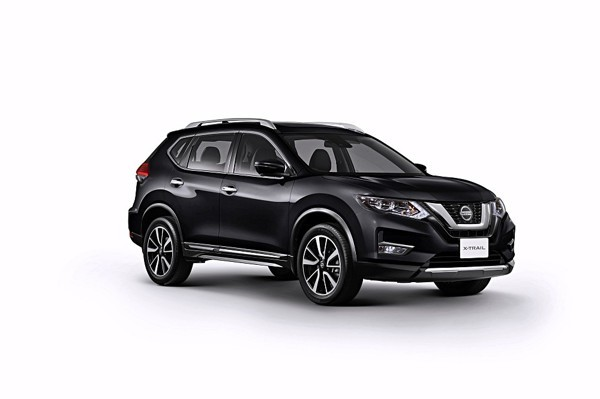pickup: (126, 115, 520, 310)
